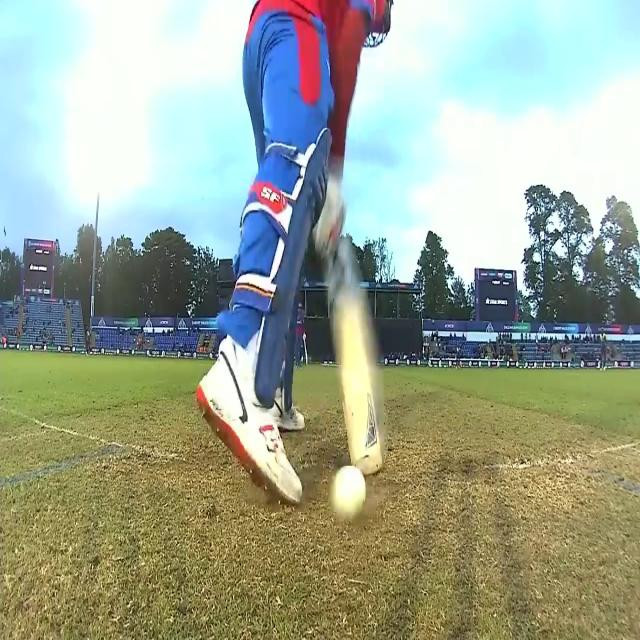ball: (328, 463, 368, 524)
